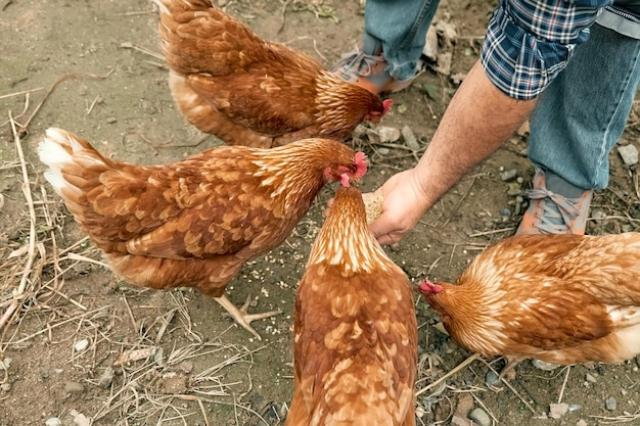Chicken: (38, 127, 367, 340), (153, 0, 393, 150), (287, 172, 417, 426), (416, 230, 640, 367)
